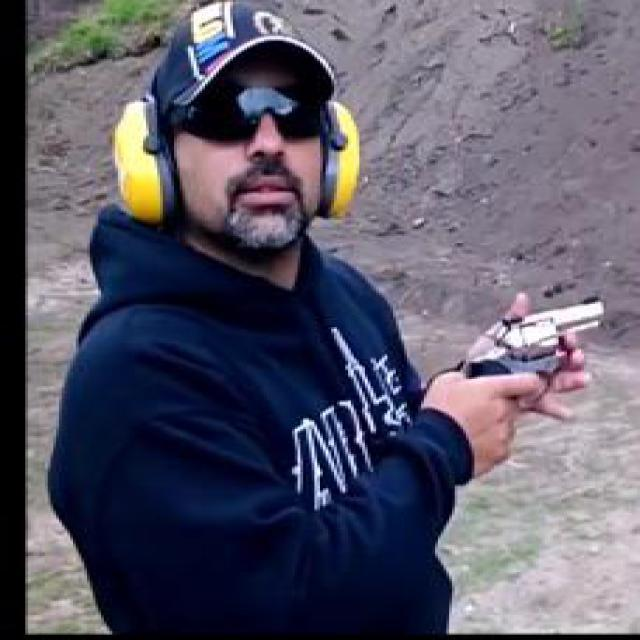gun: (452, 291, 606, 438)
